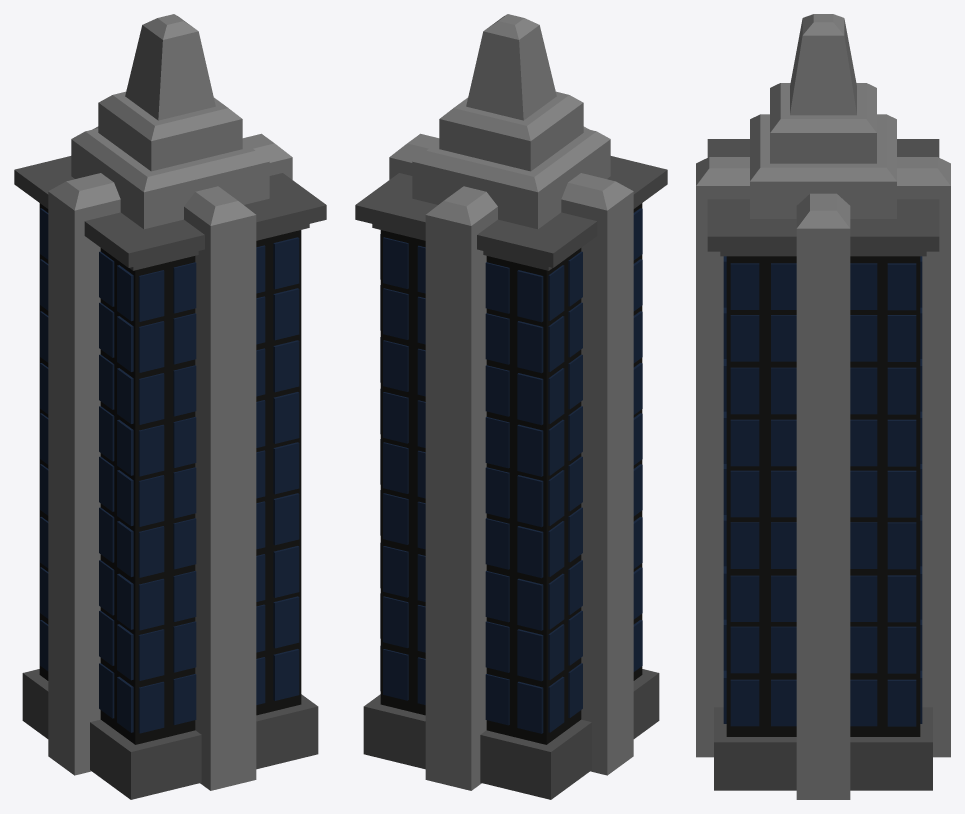
File: Building_Top.fbx
The picture shows the model from 3 angles, left to right: view 1: azimuth 30°, elevation 25°; view 2: azimuth 150°, elevation 25°; view 3: azimuth 270°, elevation 25°; orthographic projection.
Visible parts, largest first — view 1: Building_Top; view 2: Building_Top; view 3: Building_Top.
Boxes of the visible parts, x1,y1,x2,y2 form: Building_Top: (14, 14, 326, 799); Building_Top: (355, 14, 667, 799); Building_Top: (696, 14, 950, 799).
Bounding box in the file's own units: 4.77 × 15.04 × 4.77.
